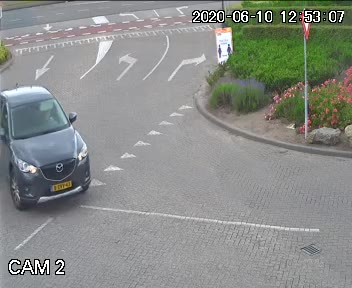car: (0, 68, 103, 212)
